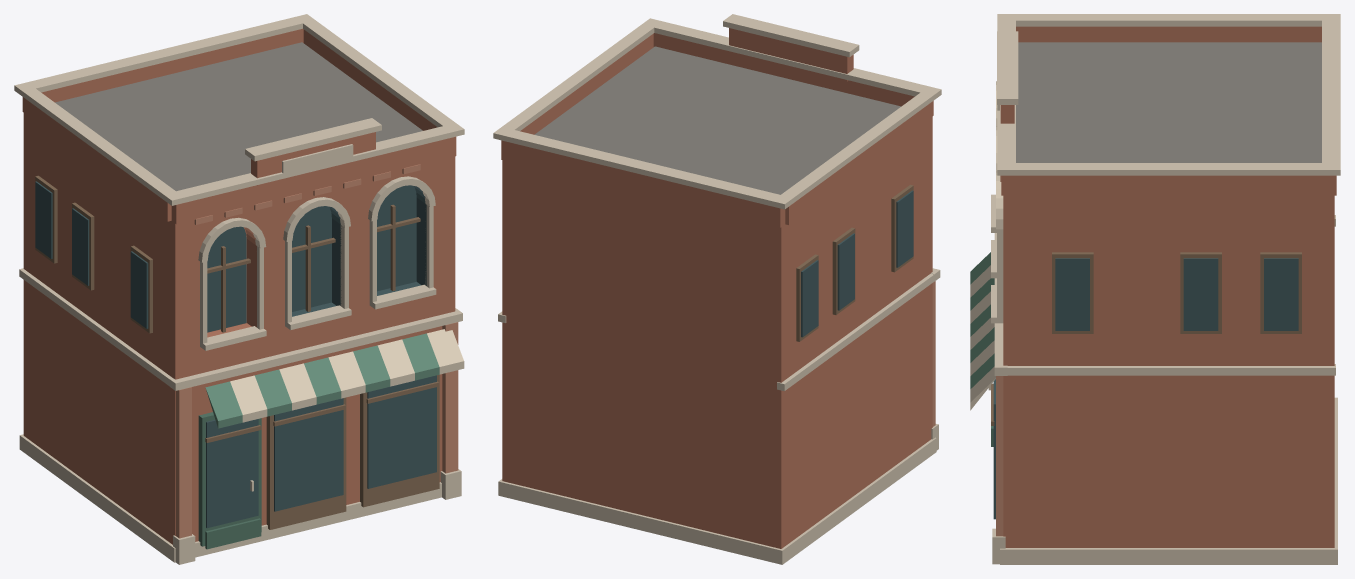
The model's file is building2.glb.
3 views of the same model, side by side, from view 1: azimuth 30°, elevation 25°; view 2: azimuth 150°, elevation 25°; view 3: azimuth 270°, elevation 25° (orthographic). The views are drawn at different scales.
Visible parts, largest first — view 1: Building2; view 2: Building2; view 3: Building2.
Part boxes in pixels (x1=…): Building2: x1=14, y1=14, x2=464, y2=564; Building2: x1=493, y1=14, x2=941, y2=564; Building2: x1=970, y1=14, x2=1340, y2=564.
Size of the model in its own units: 6.9 by 8.75 by 6.93.
